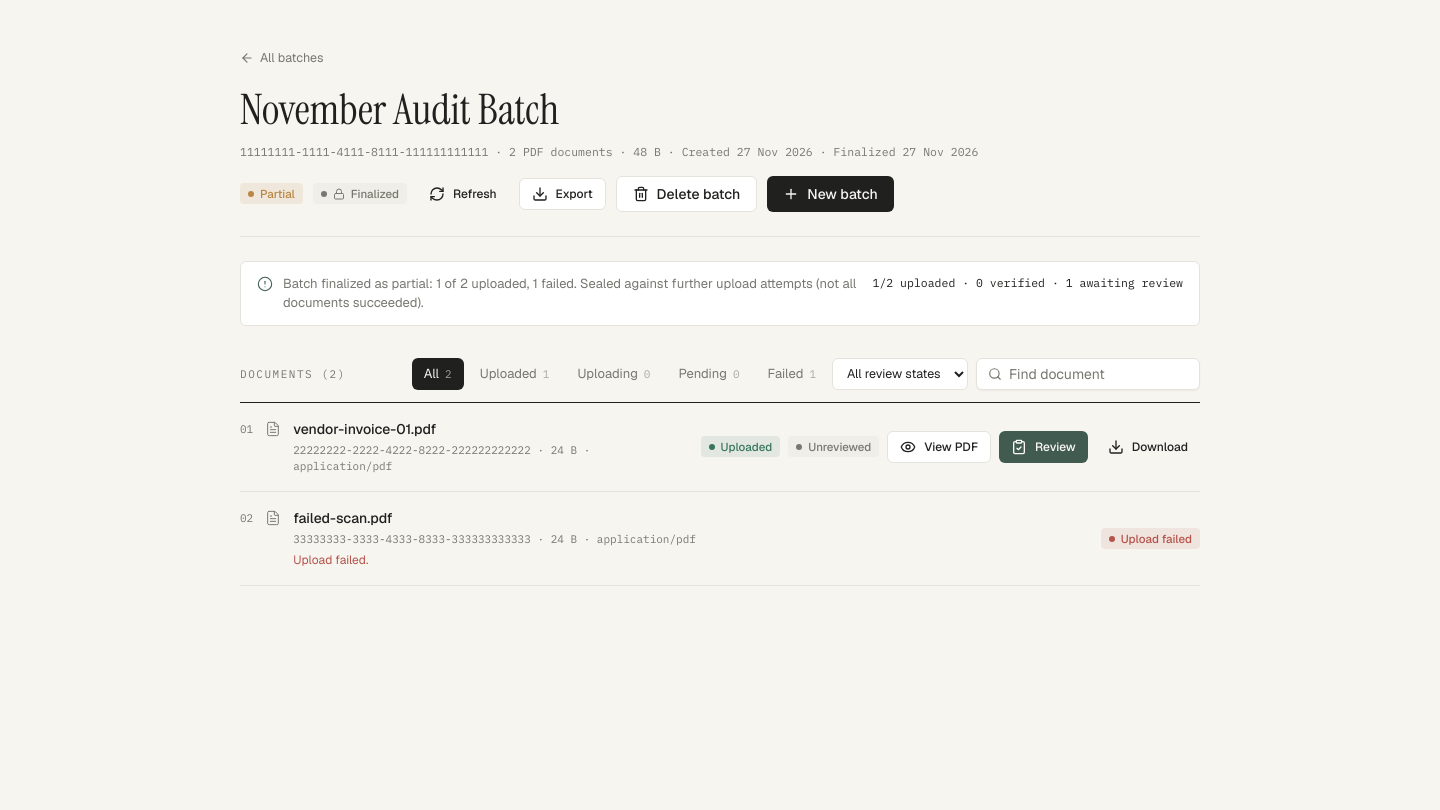
Test case: Phase 7 — Truthful review UI, concurrency conflict recovery, and label consistency › separates upload vs review status, never displays uncaptured fields, avoids optimistic approval, and persists across reload
The image size is (1440, 810).
Later steps or results of the test are not shown.
Expected: the text "Uploaded" is shown, [700,436,780,457]
Expected: the text "Unreviewed" is shown, [788,436,879,457]
Open Review Workbench and wait for initial server detail refresh to settle
Click the button with aria-label "Review vendor-invoice-01.pdf".
click(1043, 447)  # box [999,431,1088,463]
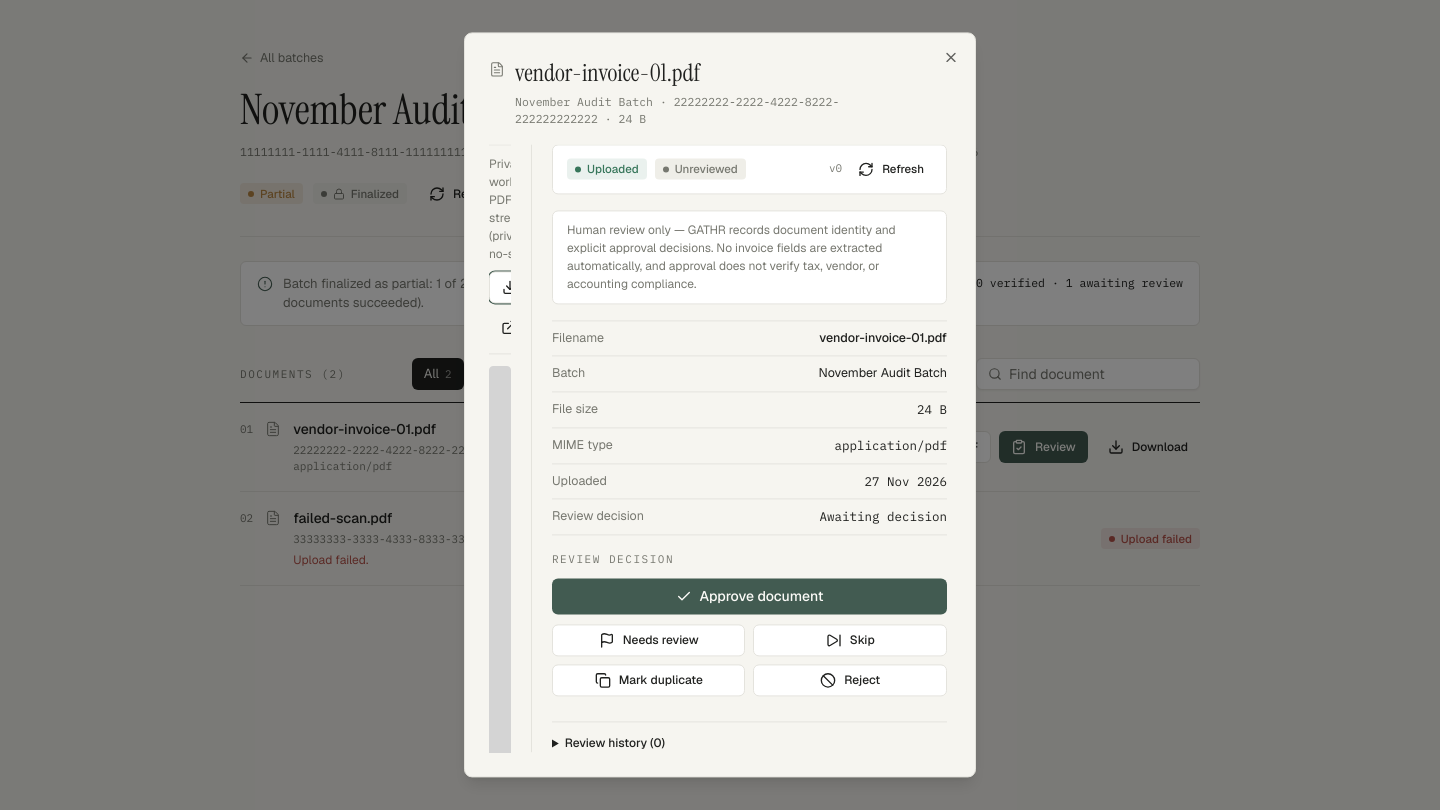
Expected: the element titled "PDF preview for vendor-invoice-01.pdf" is shown, [489,366,511,753]
Expected: the button with aria-label "Refresh document review state" is enabled, [850,155,932,183]
Expected: the text "No invoice fields are extracted automatically" is shown, [567,222,896,292]
Click the button "Approve document".
click(750, 596)  # box [552,578,947,614]
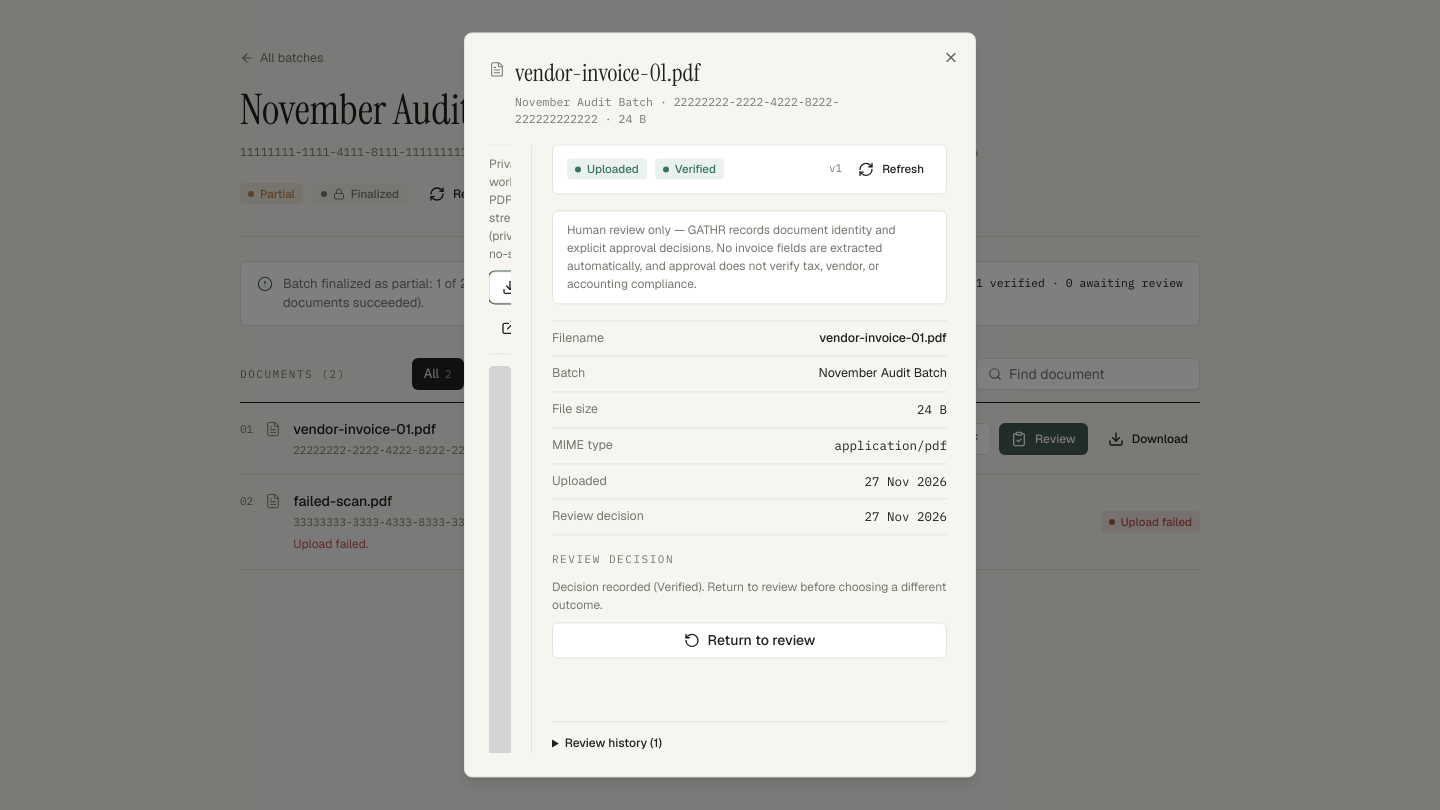
Expected: the text "Verified" is shown, [655,158,724,180]
Expected: the button "Return to review" is shown, [552,622,947,658]
